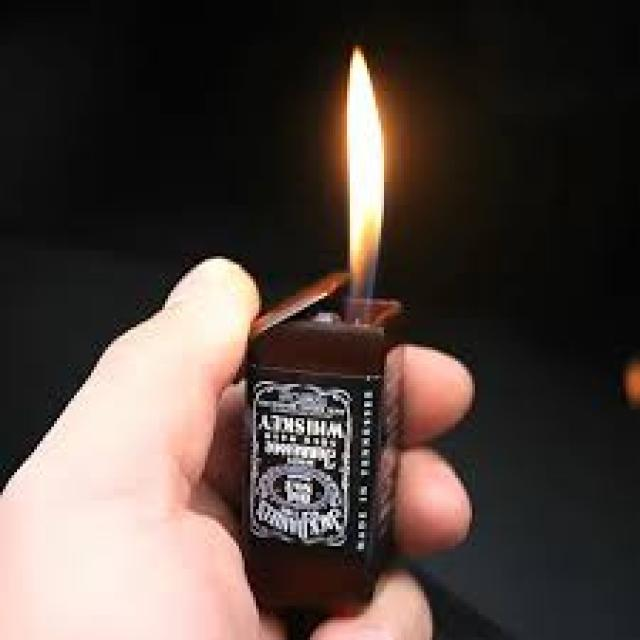fire: (345, 46, 387, 322)
